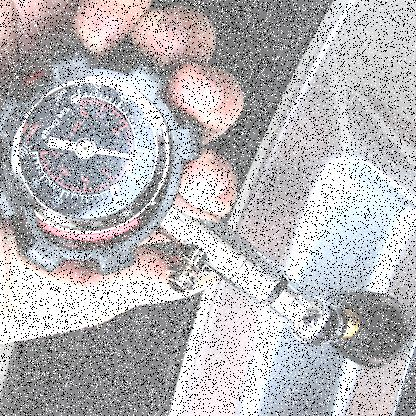needle: (95, 145, 145, 162)
